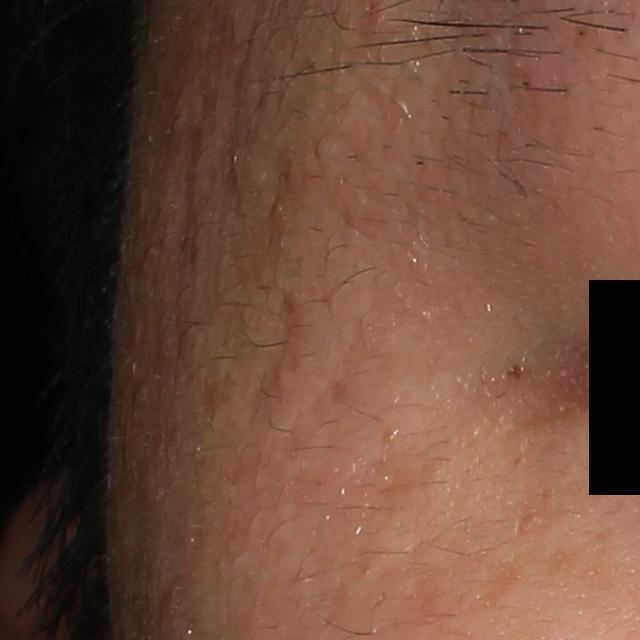melasma: (549, 526, 622, 603), (477, 559, 524, 618), (510, 490, 559, 546)
nevus: (504, 363, 521, 384)
